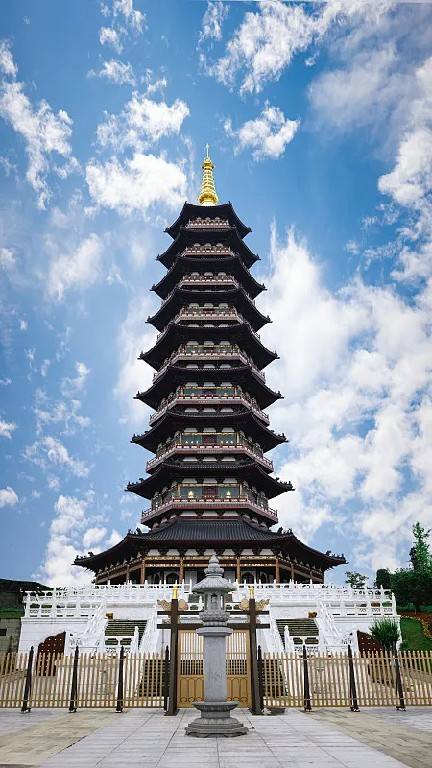Leifeng: (70, 141, 349, 584)
